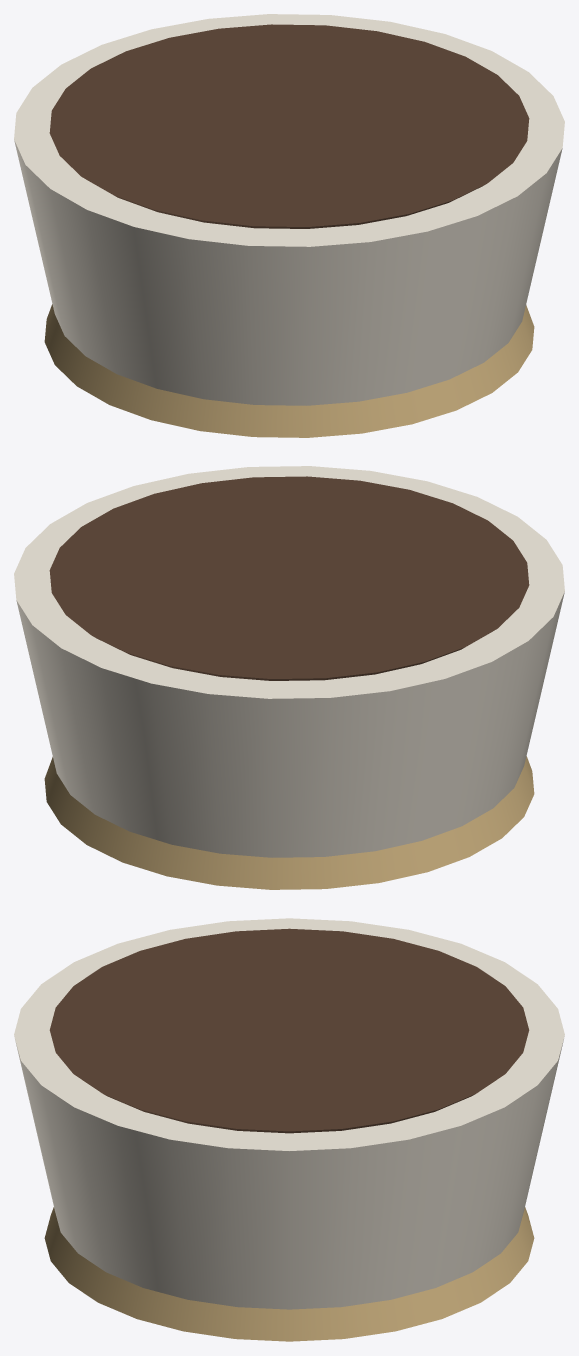
The model's file is SV_MP_SKU_04_v01.glb.
The picture shows the model from 3 angles, top to bottom: view 1: azimuth 30°, elevation 25°; view 2: azimuth 150°, elevation 25°; view 3: azimuth 270°, elevation 25°; orthographic projection.
Parts seen in each view (by area): view 1: mproto_SV_MP_SKU_04_v01; view 2: mproto_SV_MP_SKU_04_v01; view 3: mproto_SV_MP_SKU_04_v01.
Part boxes in pixels (<box>): mproto_SV_MP_SKU_04_v01: <box>14,14,564,437</box>; mproto_SV_MP_SKU_04_v01: <box>14,466,564,889</box>; mproto_SV_MP_SKU_04_v01: <box>14,918,564,1341</box>.
Size of the model in its own units: 0.054 by 0.0225 by 0.054.
